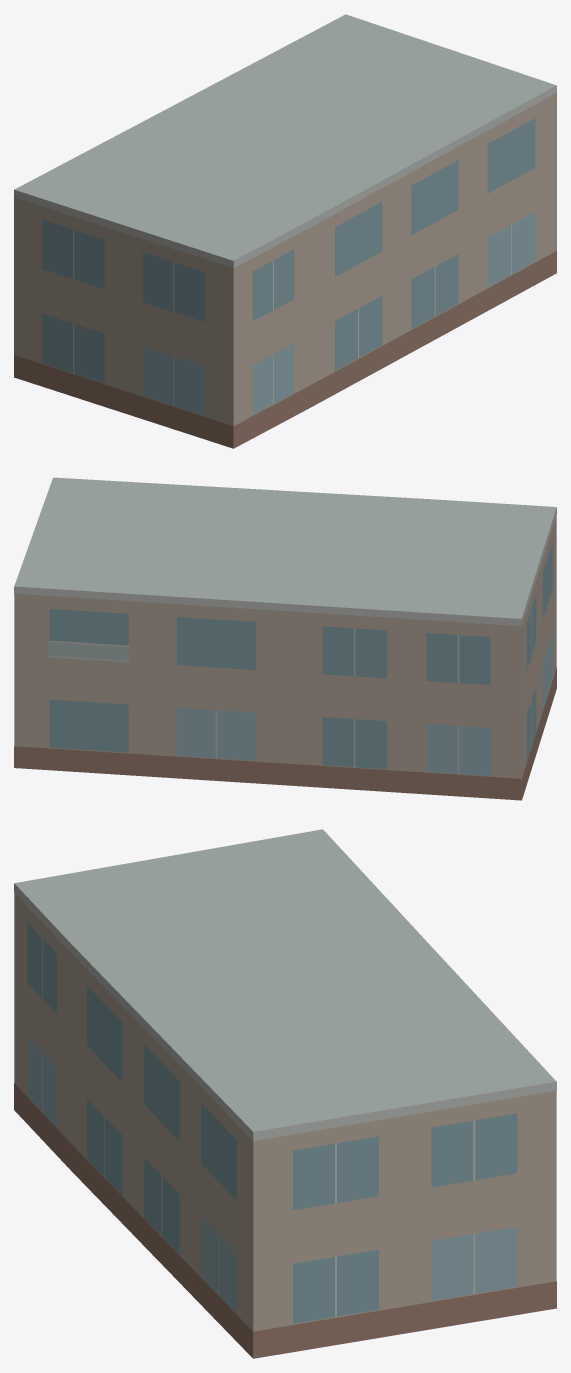
The model's file is survey-upis-32721904.glb.
3 renders of one model, top to bottom at view 1: azimuth 30°, elevation 25°; view 2: azimuth 150°, elevation 25°; view 3: azimuth 270°, elevation 25°, orthographic. The views are drawn at different scales.
Visible parts, largest first — view 1: survey-upis-32721904.tmp; view 2: survey-upis-32721904.tmp; view 3: survey-upis-32721904.tmp.
Part boxes in pixels (<box>): survey-upis-32721904.tmp: <box>14,14,556,448</box>; survey-upis-32721904.tmp: <box>14,477,556,800</box>; survey-upis-32721904.tmp: <box>14,829,556,1358</box>.
Size of the model in its own units: 17.48 by 6.1 by 13.24.
